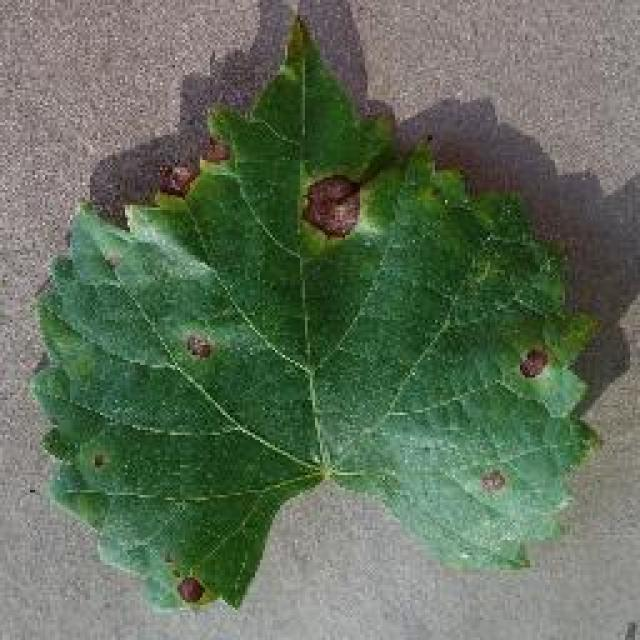Grape___Black_rot: (21, 10, 615, 617)
